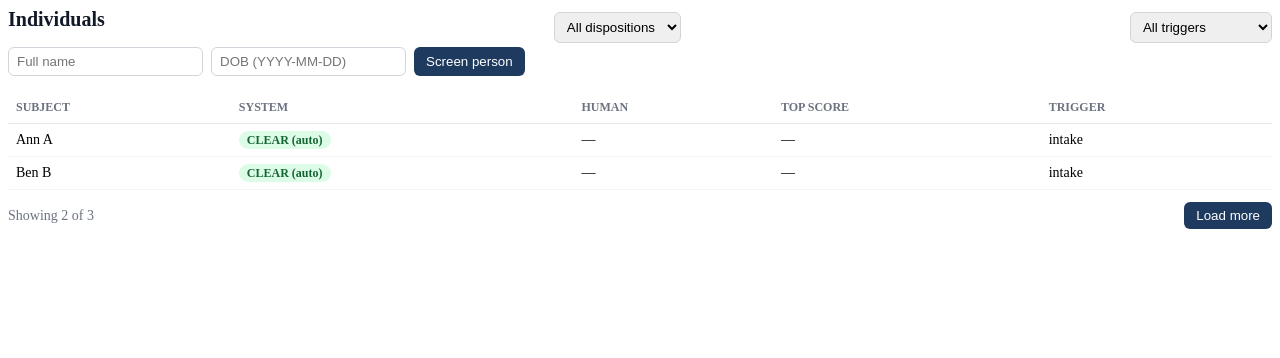
Scenario: IndividualsQueue › keeps loaded pages when a background screening finishes
Expected: the number of rows with test id "screening-row" is 2, [8, 124, 1272, 156]; [8, 156, 1272, 190]
Click the button "Load more": (1228, 216) [1184, 202, 1272, 229]
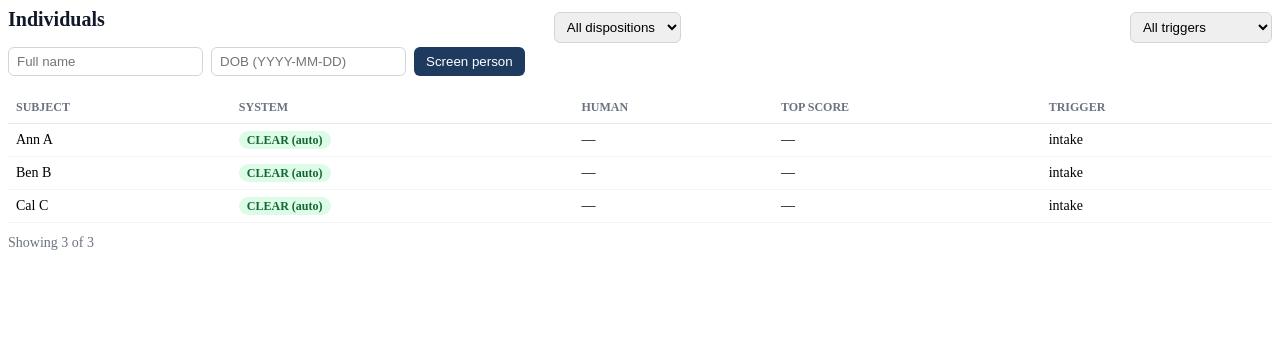
Expected: the number of rows with test id "screening-row" is 3, [8, 124, 1272, 156]; [8, 156, 1272, 190]; [8, 190, 1272, 222]
In the field labelled "Full name": (106, 62) [8, 47, 203, 76], type "Teodor Vasilescu"
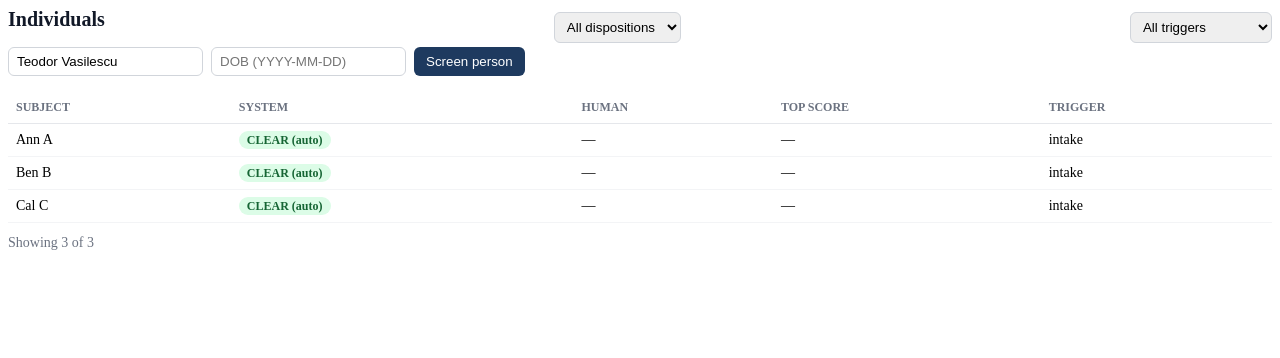
Submit the form with test id "screen-person-form", box [8, 47, 525, 76]
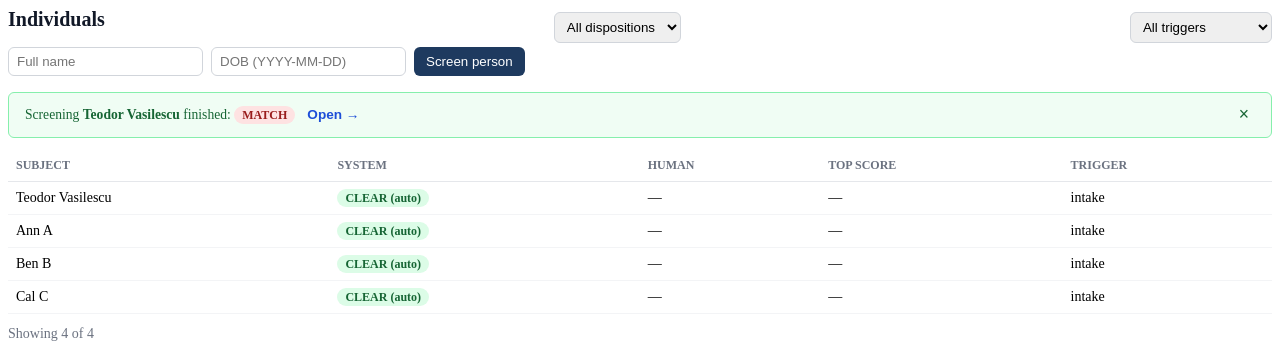
Expected: the message with test id "background-screening-notice" shows "MATCH", [242, 108, 287, 122]
Expected: the number of rows with test id "screening-row" is 4, [8, 181, 1272, 214]; [8, 214, 1272, 247]; [8, 247, 1272, 280]; [8, 280, 1272, 313]
